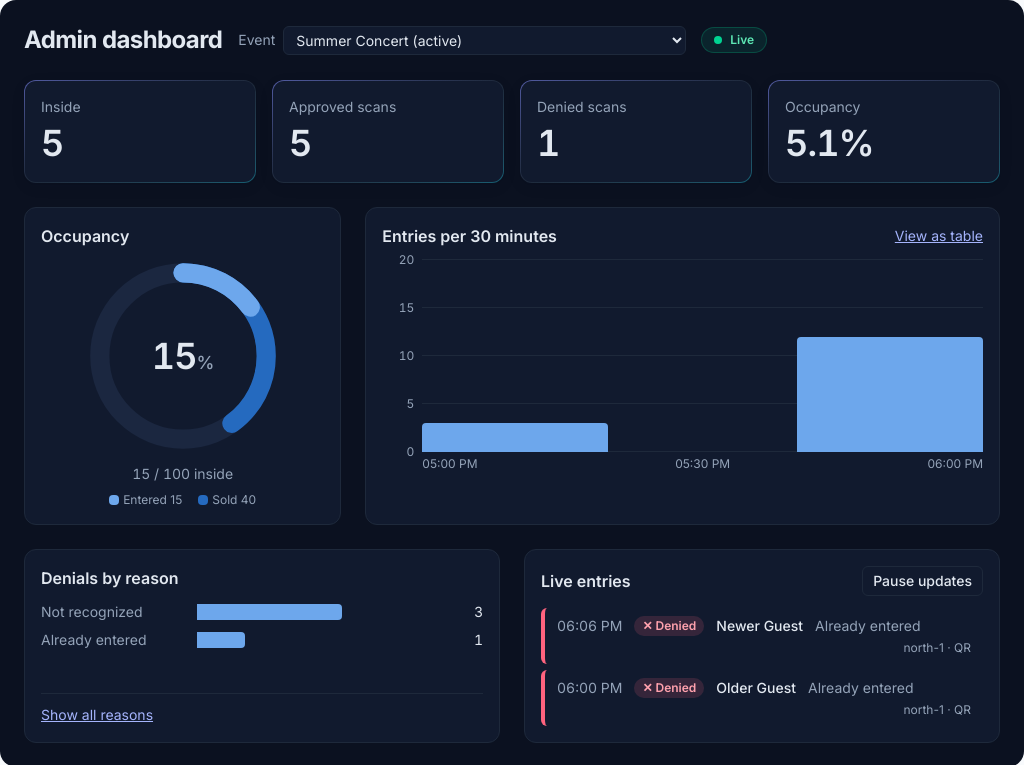
Test: dashboard data › the newest scan is listed first; Pause freezes the list and counts what's new
Expected: the text "Approved scans" is shown, [289,98,396,115]
Expected: the list item "06:06 PM ✕ Denied Newer Guest Already entered north-1 · QR" is shown, [541,608,983,664]
Click the button "Pause updates".
click(923, 581)  # box [862,566,983,596]
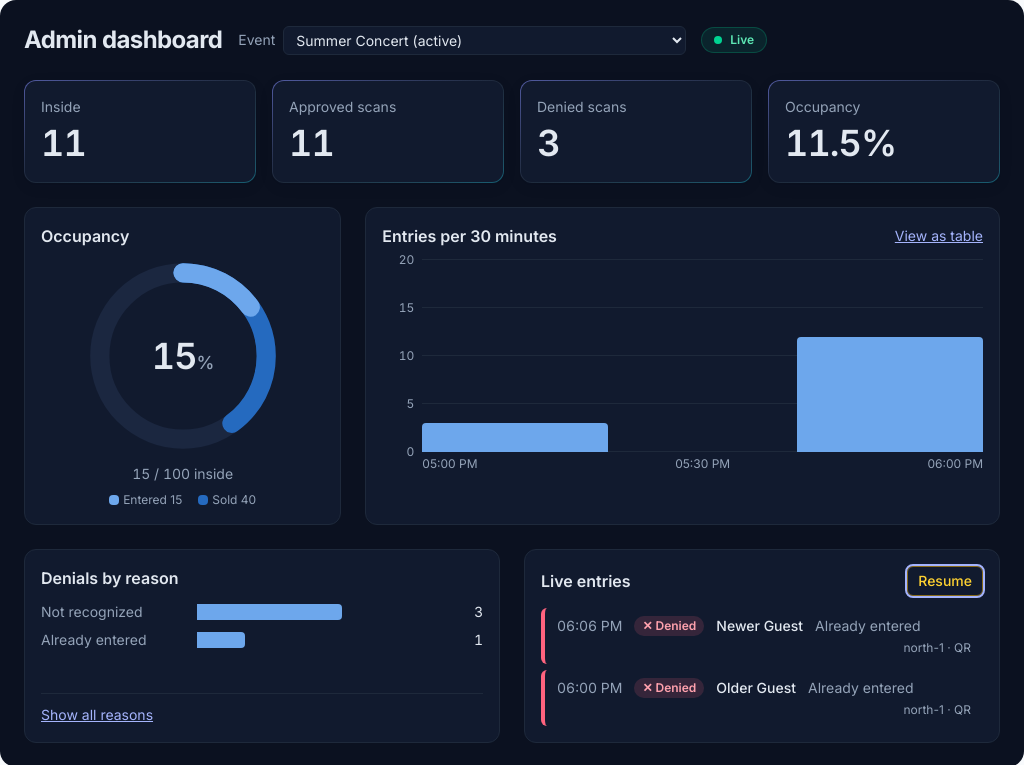
Click the button "Show all reasons".
click(97, 715)  # box [41,705,153,725]
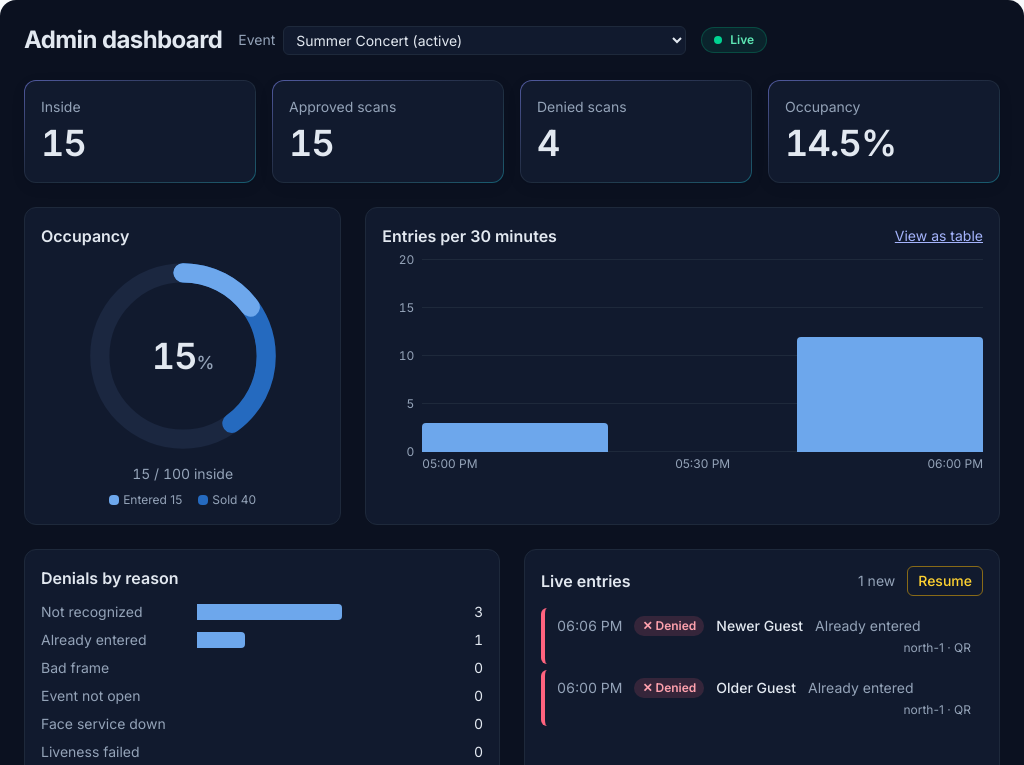
Expected: the list item "06:06 PM ✕ Denied Newer Guest Already entered north-1 · QR" is shown, [541,608,983,664]
Now the text "1 new" is shown, box [858,571,895,591]
Click the button "Resume".
click(945, 581)  # box [907,566,983,596]
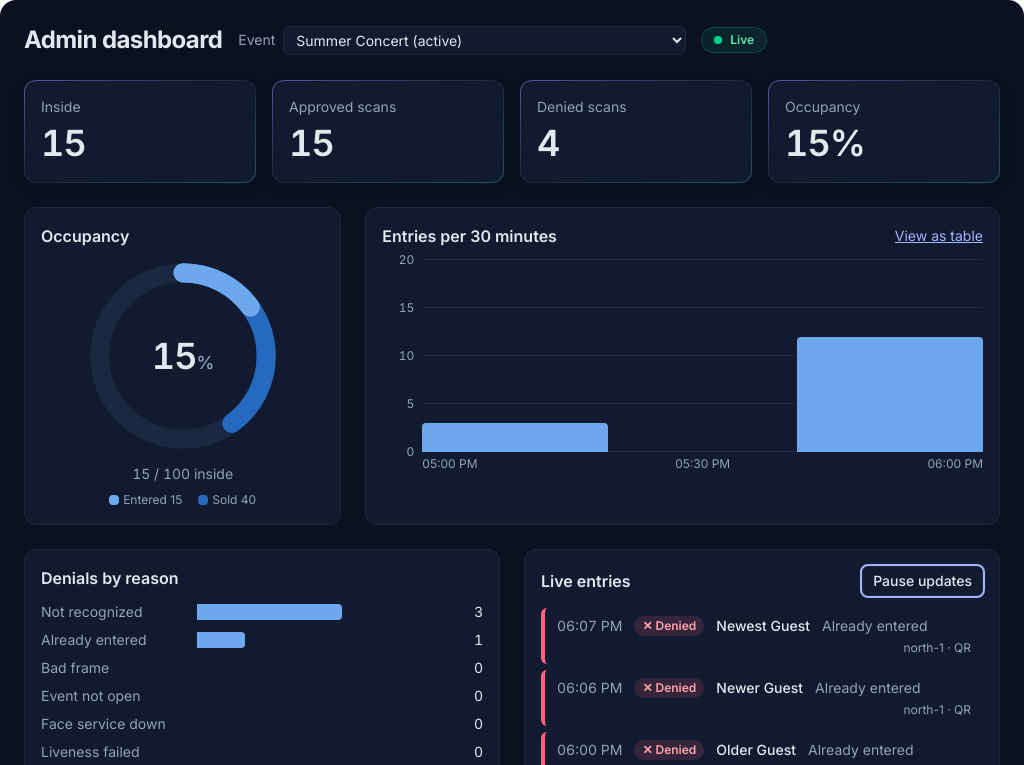
Now the list item "06:07 PM ✕ Denied Newest Guest Already entered north-1 · QR" is shown, box [541,608,983,664]
